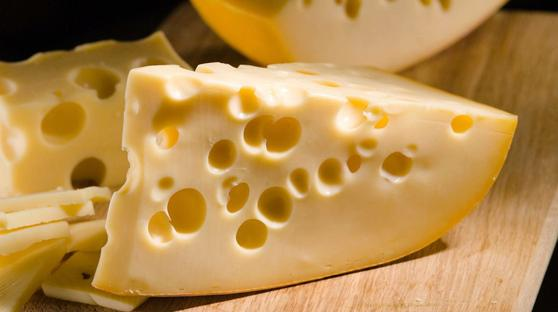cheese: (100, 58, 515, 290)
